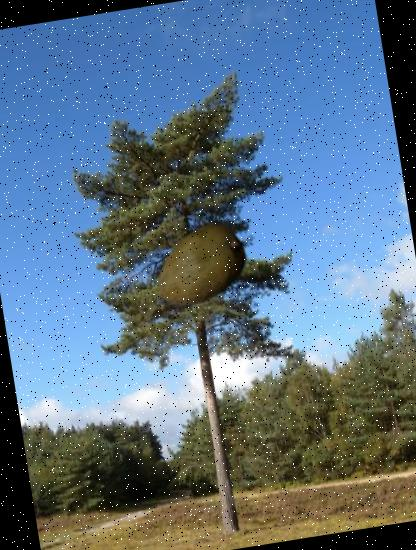Papaya: (144, 210, 256, 323)
